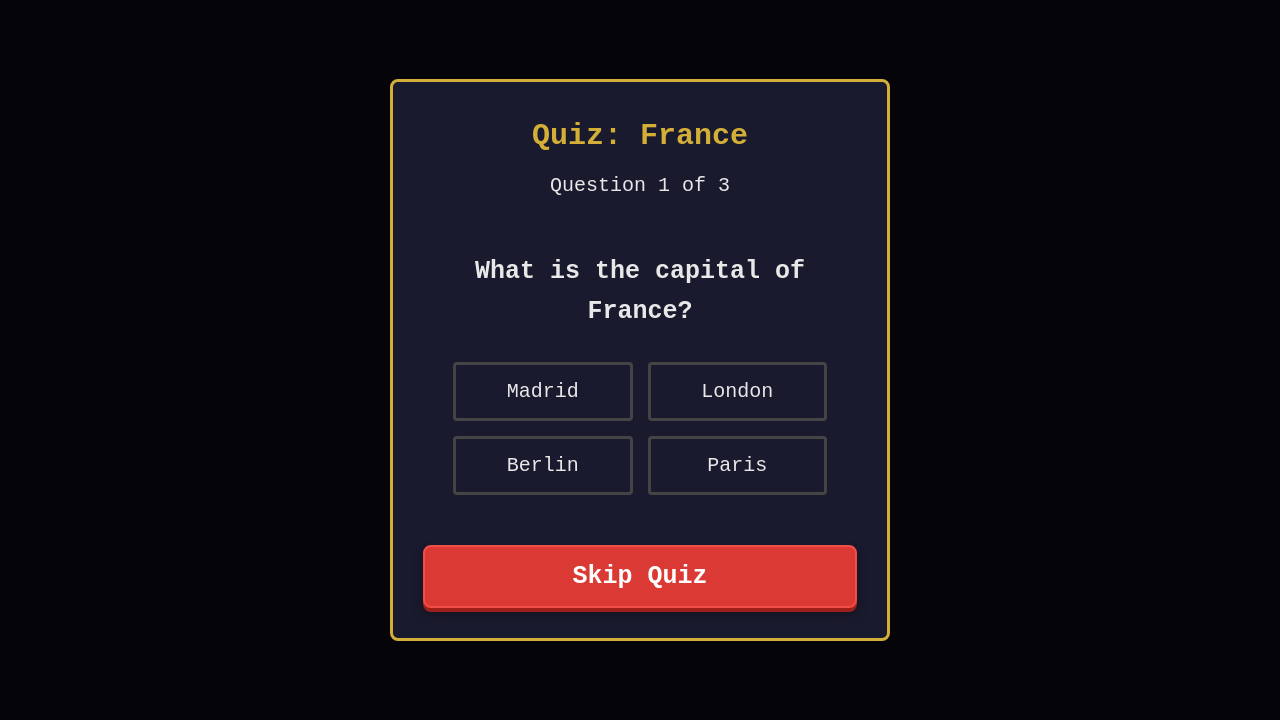
it: QuizModal › answer selection and feedback flow › shows Next button in feedback phase
The image size is (1280, 720).
Note: Select an answer
Click the button "Paris": (737, 466) [648,436,827,495]
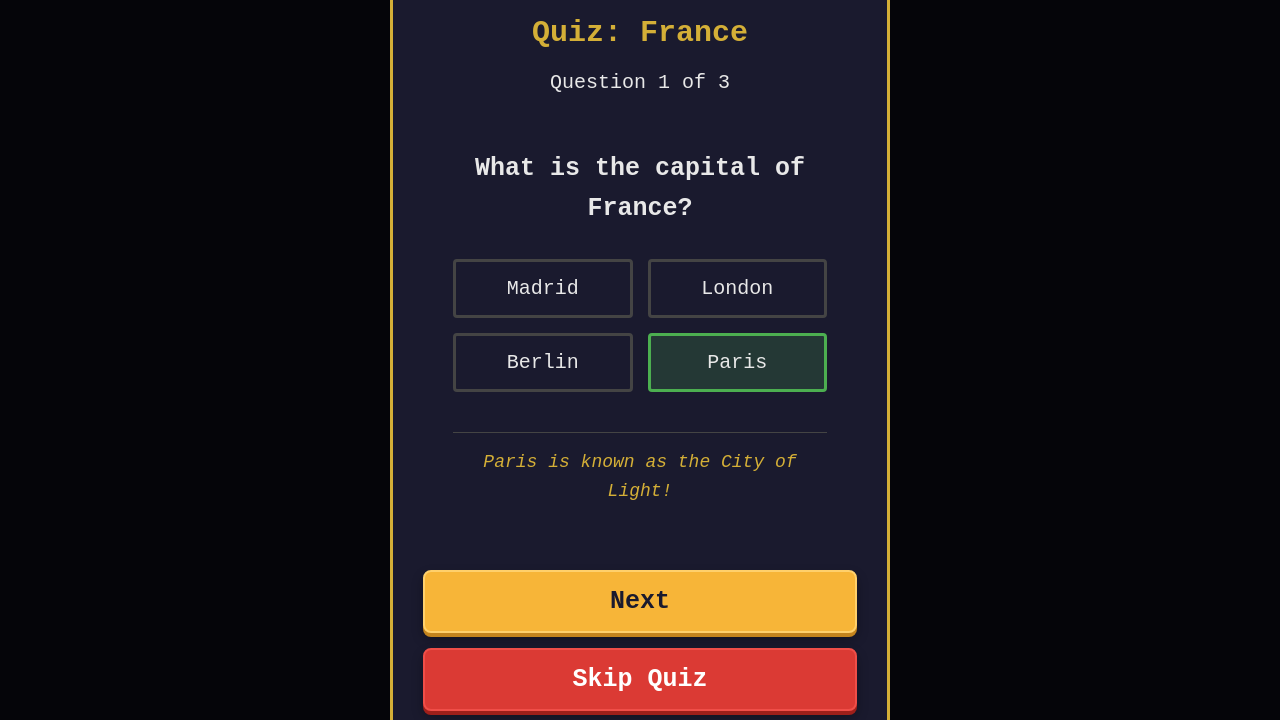
Check: the button "Next" is shown, box [423,570,857,633]
